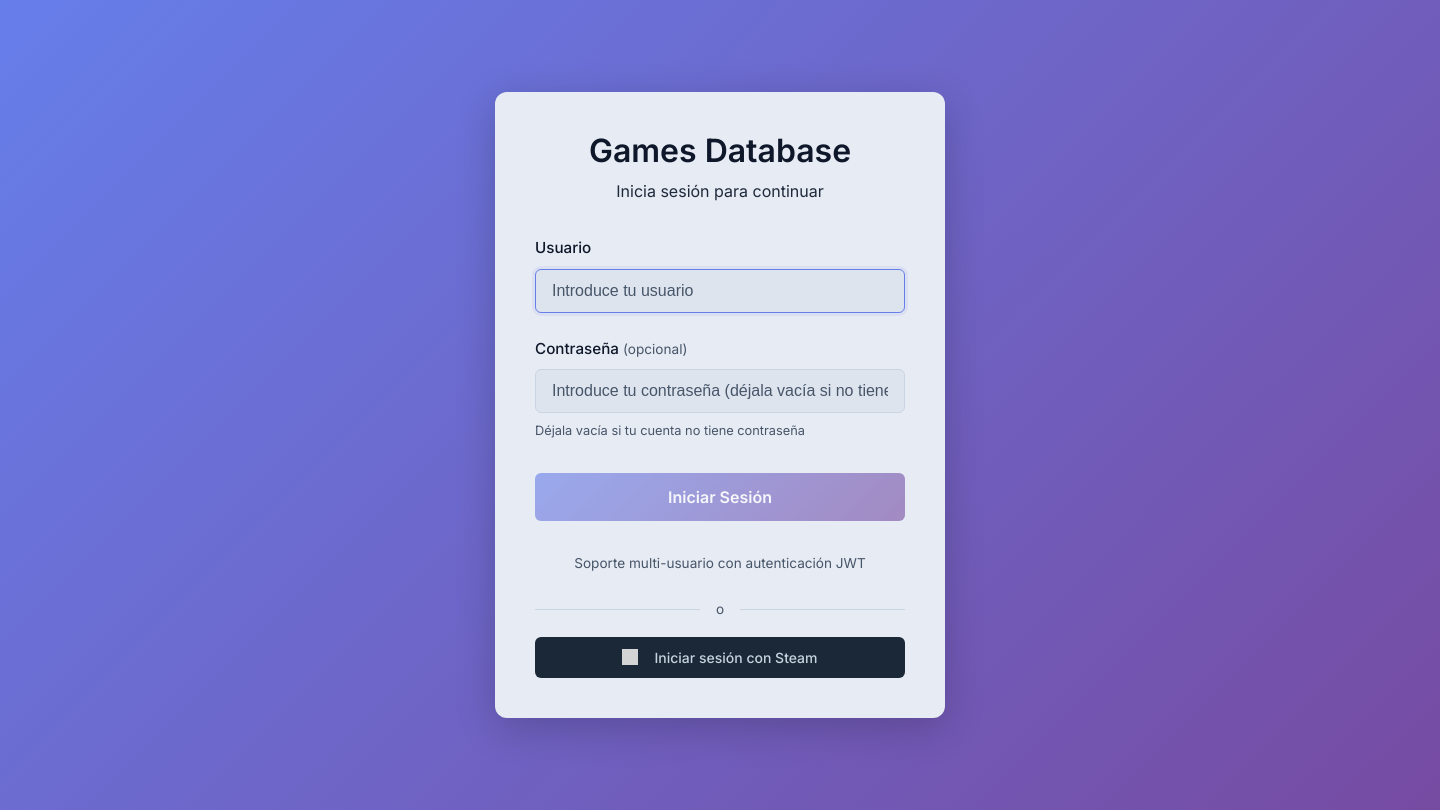
Auth Flow — Integration › shows error message when login fails with 401
The image size is (1440, 810).
Type "Admin" into the field with placeholder "Introduce tu usuario" at x=720, y=290, box top-left (535, 268), bottom-right (905, 312)
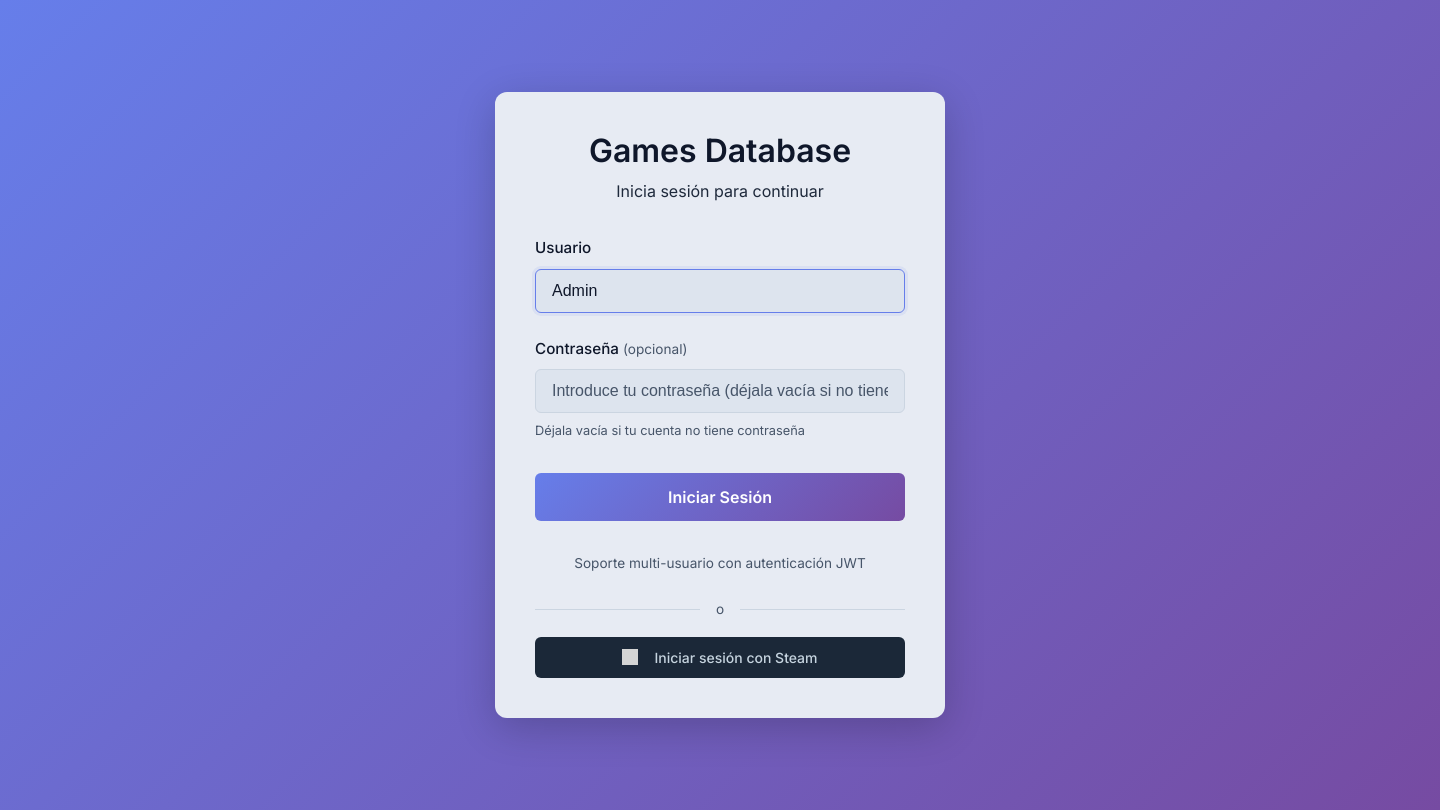
Type "wrong" into the password field with placeholder "Introduce tu contraseña (déjala vacía si no tiene)" at x=720, y=391, box top-left (535, 369), bottom-right (905, 413)
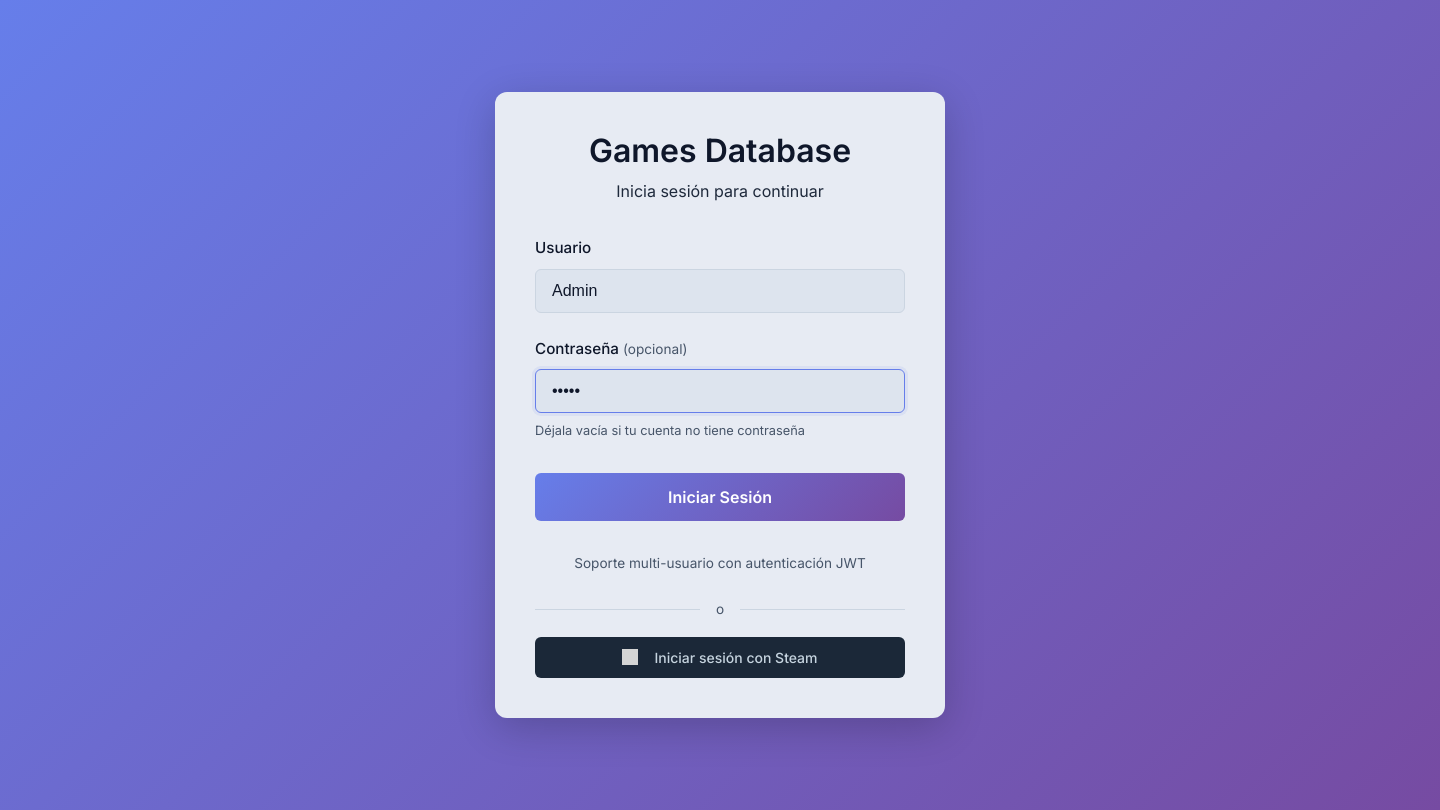
Click the button "Iniciar Sesión" at x=720, y=497, box top-left (535, 473), bottom-right (905, 521)
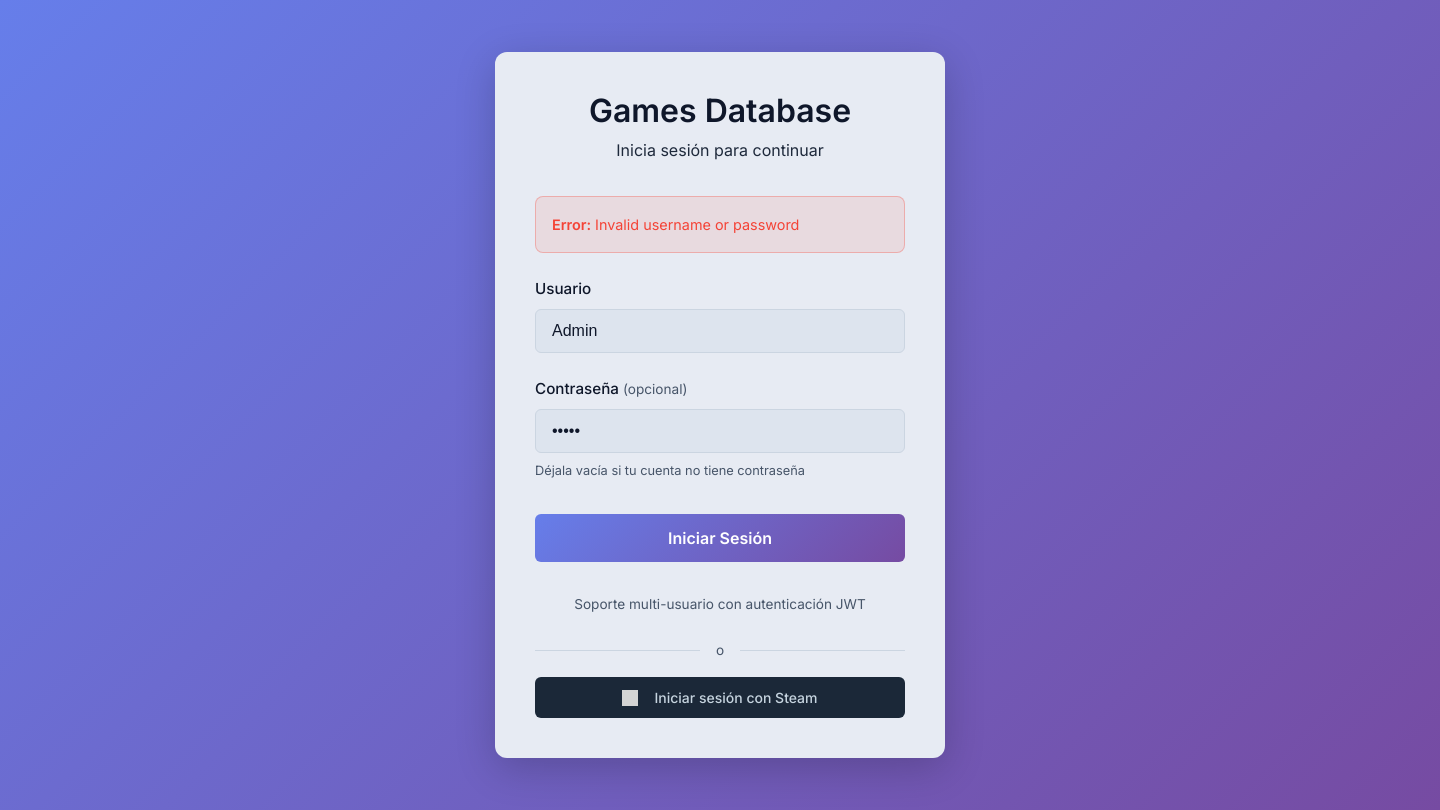
Expected: the text "Error: Invalid username or password" is shown, top-left (535, 196), bottom-right (905, 253)
